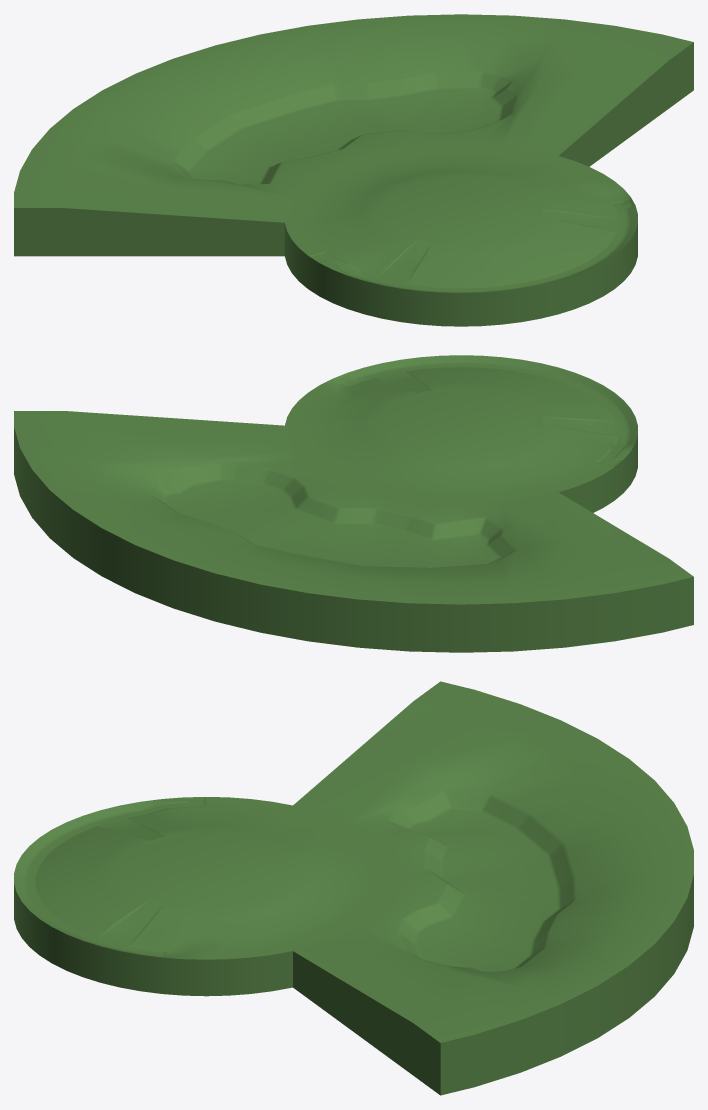
Rendered from Env Asset.fbx.
The picture shows the model from 3 angles, top to bottom: view 1: azimuth 30°, elevation 25°; view 2: azimuth 150°, elevation 25°; view 3: azimuth 270°, elevation 25°; orthographic projection. The views are drawn at different scales.
Visible parts, largest first — view 1: Cylinder002; view 2: Cylinder002; view 3: Cylinder002.
Part boxes in pixels (x1,y1,x2,y2): Cylinder002: (14,14,693,326); Cylinder002: (14,355,693,652); Cylinder002: (14,681,693,1095).
Size of the model in its own units: 20973 by 1421 by 16667.
